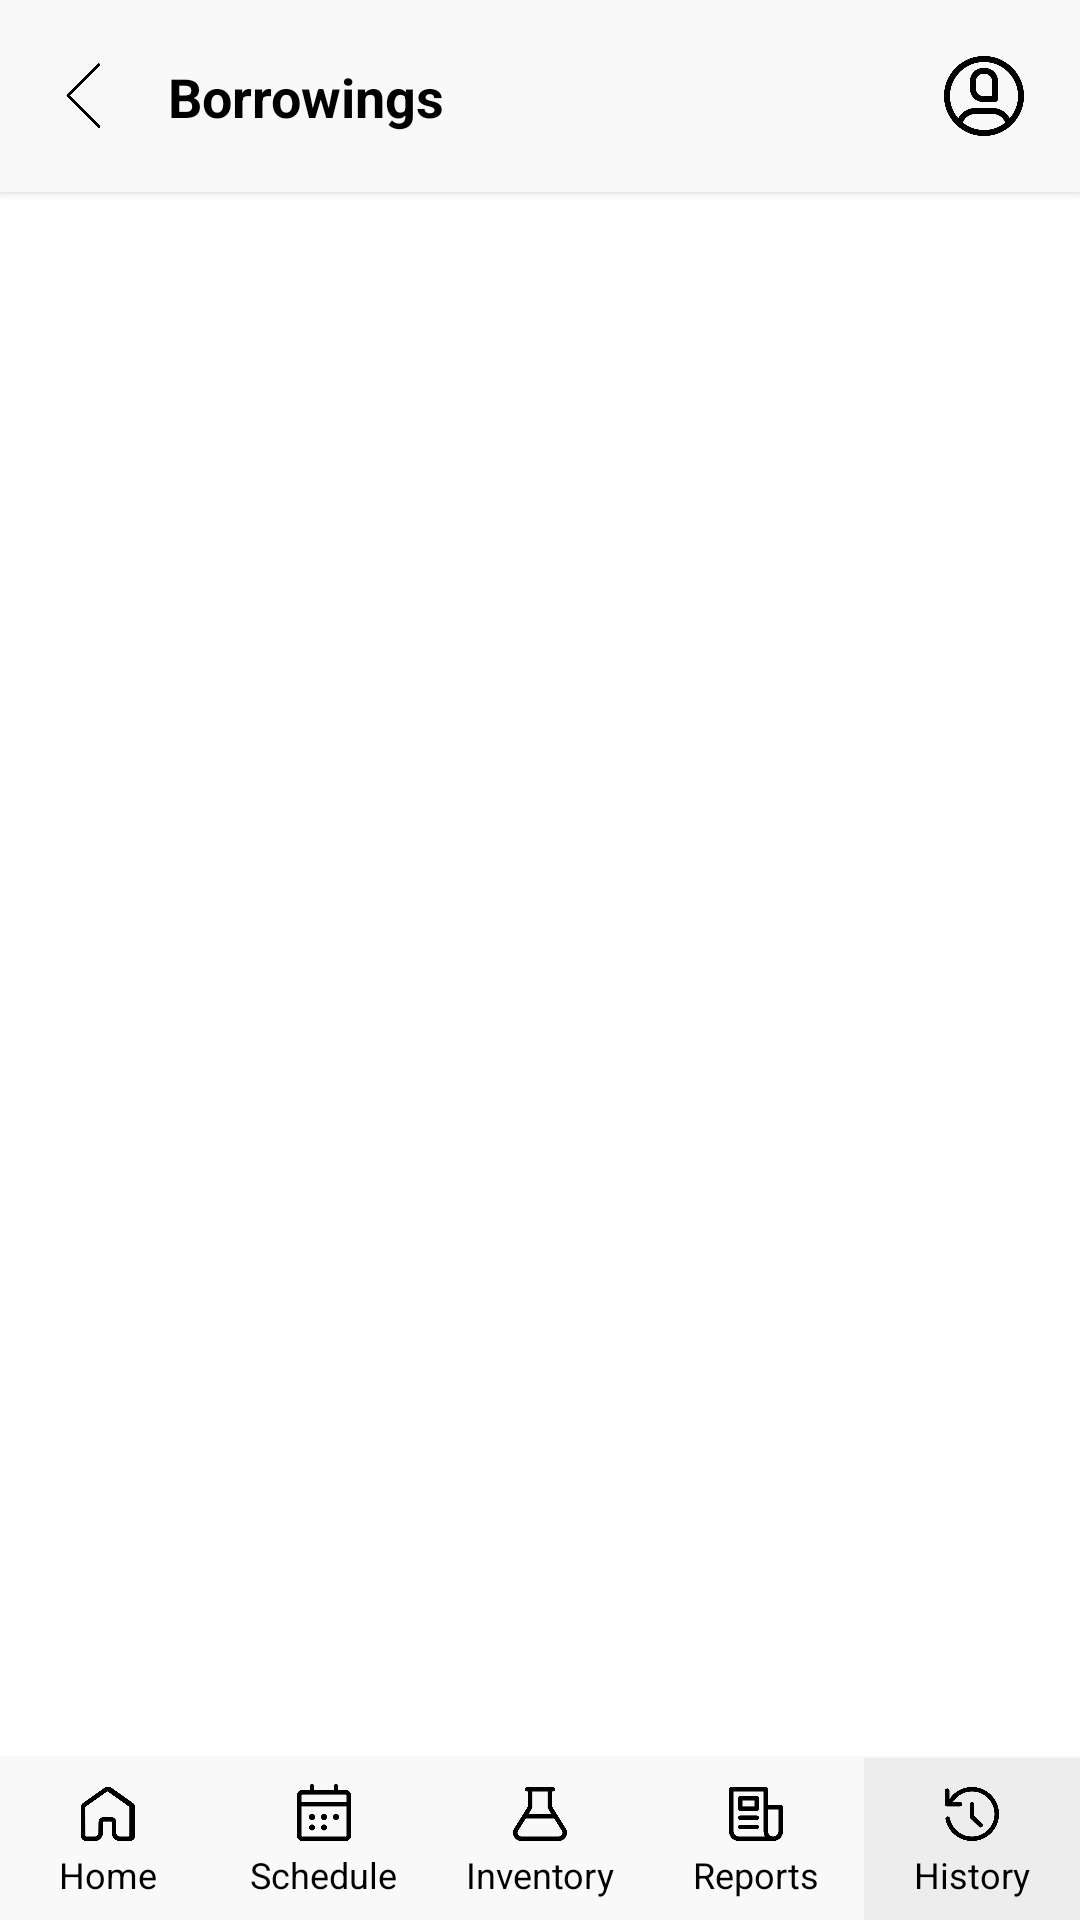

Screen size 1080px x 1920px. Icon name, then its box in pixels as BBox(x1, y1, x2, y2):
Back: BBox(66, 63, 100, 128)
User Icon: BBox(944, 56, 1024, 136)
